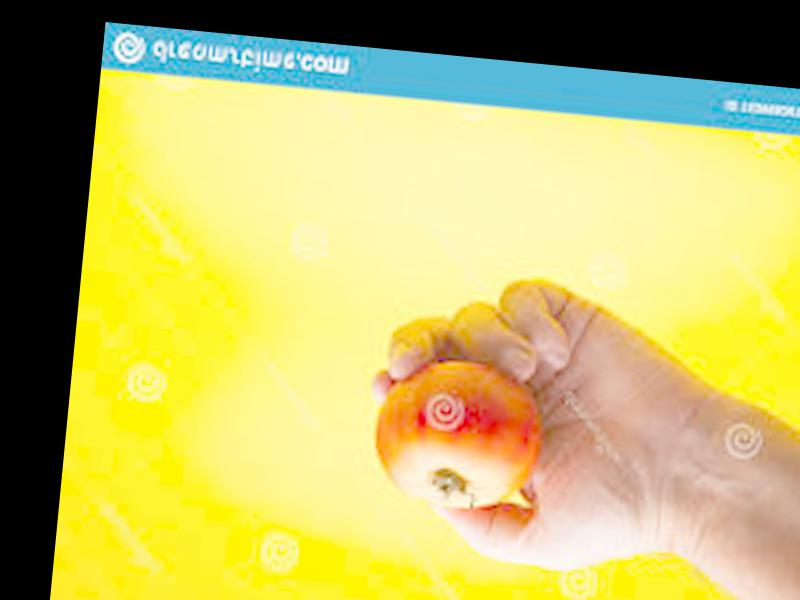Tomato: (370, 354, 547, 514)
